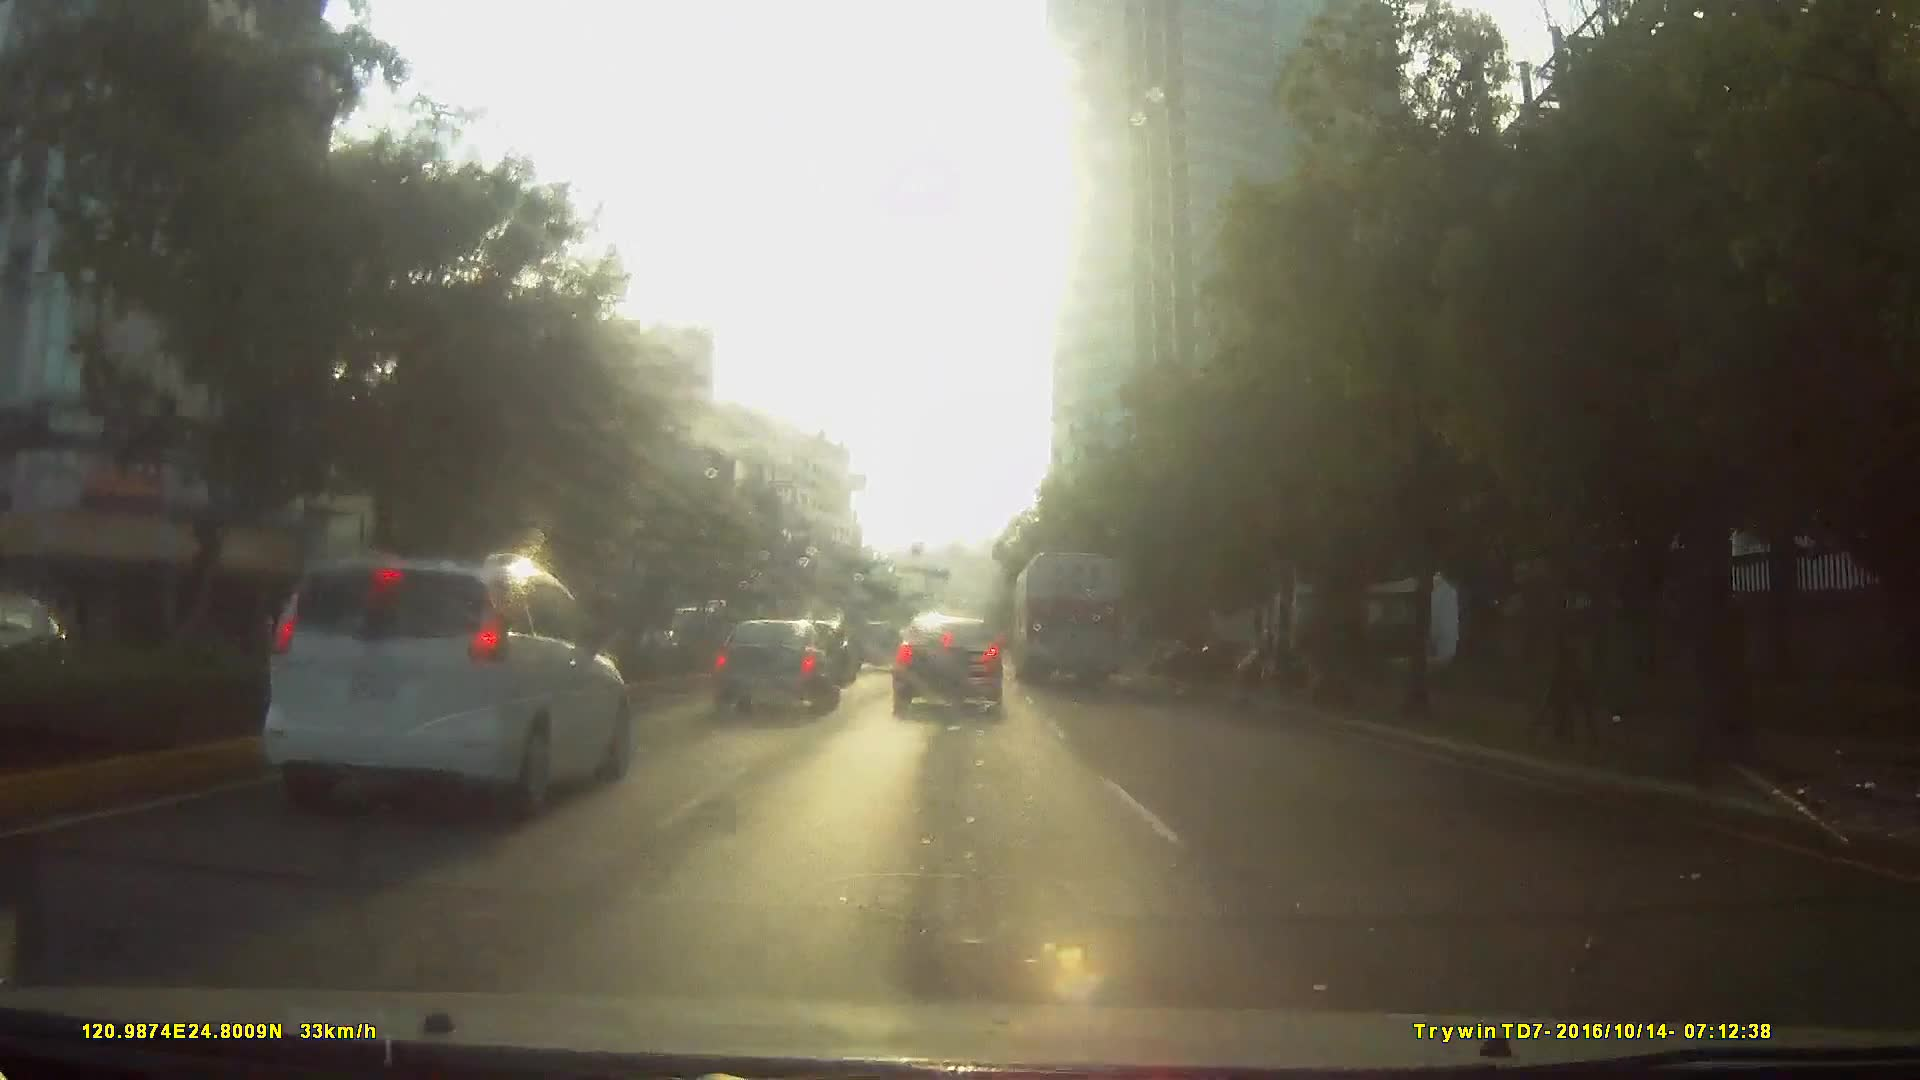vehicle: (251, 556, 684, 868), (237, 549, 640, 827), (1011, 549, 1127, 687), (708, 615, 843, 717), (893, 611, 1007, 717), (849, 617, 905, 674)
